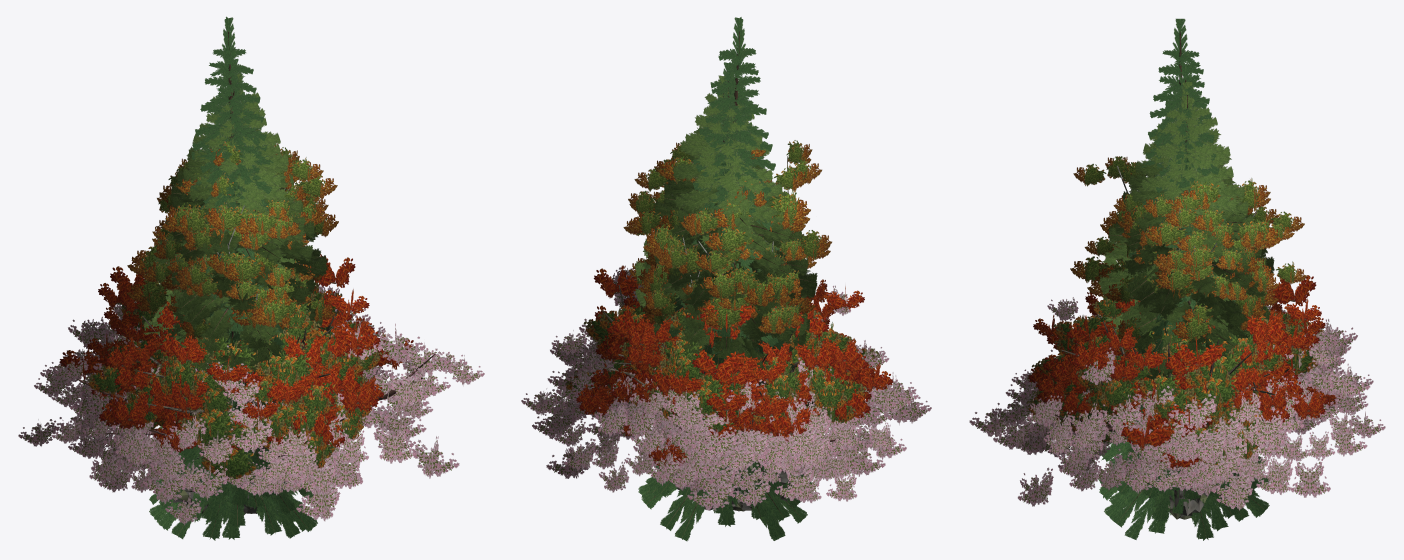
Rendered from nature.glb.
The picture shows the model from 3 angles, left to right: view 1: azimuth 30°, elevation 25°; view 2: azimuth 150°, elevation 25°; view 3: azimuth 270°, elevation 25°; orthographic projection. The views are drawn at different scales.
Parts seen in each view (by area): view 1: cherry2_lod0, maple0_maple_lod0, pine1_lod0, maple1_maple_lod0, cherry0_lod0, spruce1_lod0, birch1_autumn_lod0, pine0_lod0, cherry1_lod0, oak0_lod0, birch1_lod0, birch0_autumn_lod0 (+9 smaller); view 2: cherry2_lod0, maple0_maple_lod0, cherry1_lod0, maple1_maple_lod0, pine1_lod0, cherry0_lod0, pine0_lod0, spruce1_lod0, birch1_lod0, birch1_autumn_lod0, birch0_autumn_lod0, birch0_lod0 (+9 smaller); view 3: cherry2_lod0, pine1_lod0, maple0_maple_lod0, cherry1_lod0, maple1_maple_lod0, pine0_lod0, cherry0_lod0, birch1_lod0, birch1_autumn_lod0, birch0_autumn_lod0, spruce1_lod0, oak0_lod0 (+10 smaller).
Boxes of the visible parts, box(x1,y1,x2,y2) form: cherry2_lod0: box(18, 284, 484, 525); maple0_maple_lod0: box(59, 289, 413, 452); pine1_lod0: box(145, 73, 327, 369); maple1_maple_lod0: box(81, 254, 384, 450); cherry0_lod0: box(34, 337, 384, 506); spruce1_lod0: box(149, 16, 313, 539); birch1_autumn_lod0: box(127, 141, 338, 298); pine0_lod0: box(152, 90, 326, 370); cherry1_lod0: box(55, 301, 422, 498); oak0_lod0: box(108, 282, 375, 450); birch1_lod0: box(141, 137, 327, 307); birch0_autumn_lod0: box(127, 173, 335, 338); cherry2_lod0: box(521, 266, 931, 501); maple0_maple_lod0: box(576, 279, 893, 461); cherry1_lod0: box(532, 339, 902, 510); maple1_maple_lod0: box(590, 265, 880, 467); pine1_lod0: box(634, 75, 817, 359); cherry0_lod0: box(546, 330, 885, 507); pine0_lod0: box(635, 96, 817, 372); spruce1_lod0: box(641, 17, 794, 521); birch1_lod0: box(639, 140, 821, 305); birch1_autumn_lod0: box(627, 141, 831, 307); birch0_autumn_lod0: box(623, 179, 816, 334); birch0_lod0: box(634, 177, 807, 332); cherry2_lod0: box(969, 297, 1385, 510); pine1_lod0: box(1098, 82, 1274, 374); maple0_maple_lod0: box(1033, 258, 1339, 469); cherry1_lod0: box(992, 321, 1367, 495); maple1_maple_lod0: box(1028, 258, 1343, 442); pine0_lod0: box(1099, 96, 1267, 374); cherry0_lod0: box(1005, 306, 1361, 497); birch1_lod0: box(1084, 156, 1293, 296); birch1_autumn_lod0: box(1073, 156, 1304, 299); birch0_autumn_lod0: box(1070, 178, 1306, 342); spruce1_lod0: box(1099, 18, 1270, 533); oak0_lod0: box(1039, 299, 1314, 439).
Size of what is drawn, in the model's own units: 14.79 by 19.52 by 15.04.
17 materials, 17 textured.
